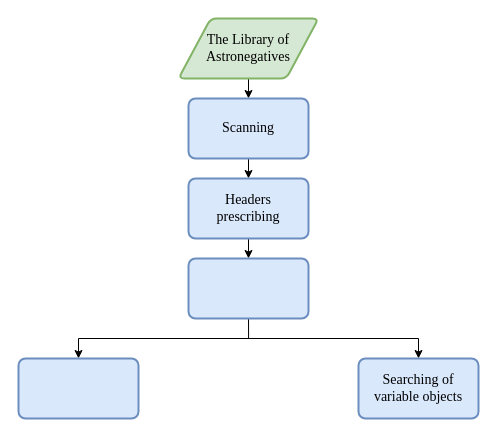
This 496x436 diagram has some shape labels left out. The box of each missing label's shape, as (x1, y1, x2, y2) in pixels:
Astrometry: (187, 257, 309, 319)
Publishing on KazVO: (17, 357, 139, 419)
